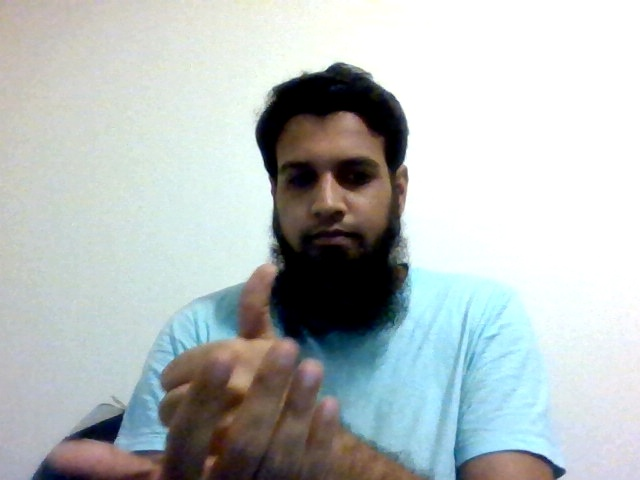help: (39, 261, 348, 478)
